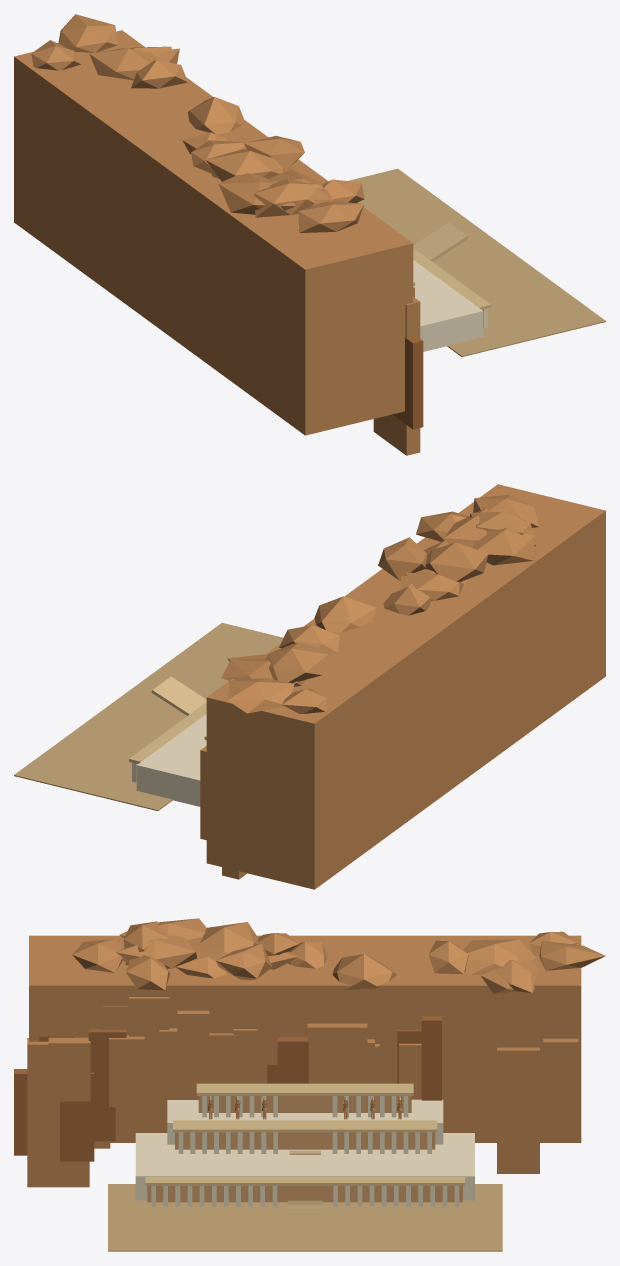
The model's file is terrasstempel.glb.
3 views of the same model, one above another, from view 1: azimuth 30°, elevation 25°; view 2: azimuth 150°, elevation 25°; view 3: azimuth 270°, elevation 25° (orthographic). The views are drawn at different scales.
Parts seen in each view (by area): view 1: terrasstempel; view 2: terrasstempel; view 3: terrasstempel.
Boxes of the visible parts, <box> form: terrasstempel: <box>14,14,605,455</box>; terrasstempel: <box>14,484,605,889</box>; terrasstempel: <box>14,918,605,1251</box>.
Size of the model in its own units: 95.31 by 64.12 by 150.
